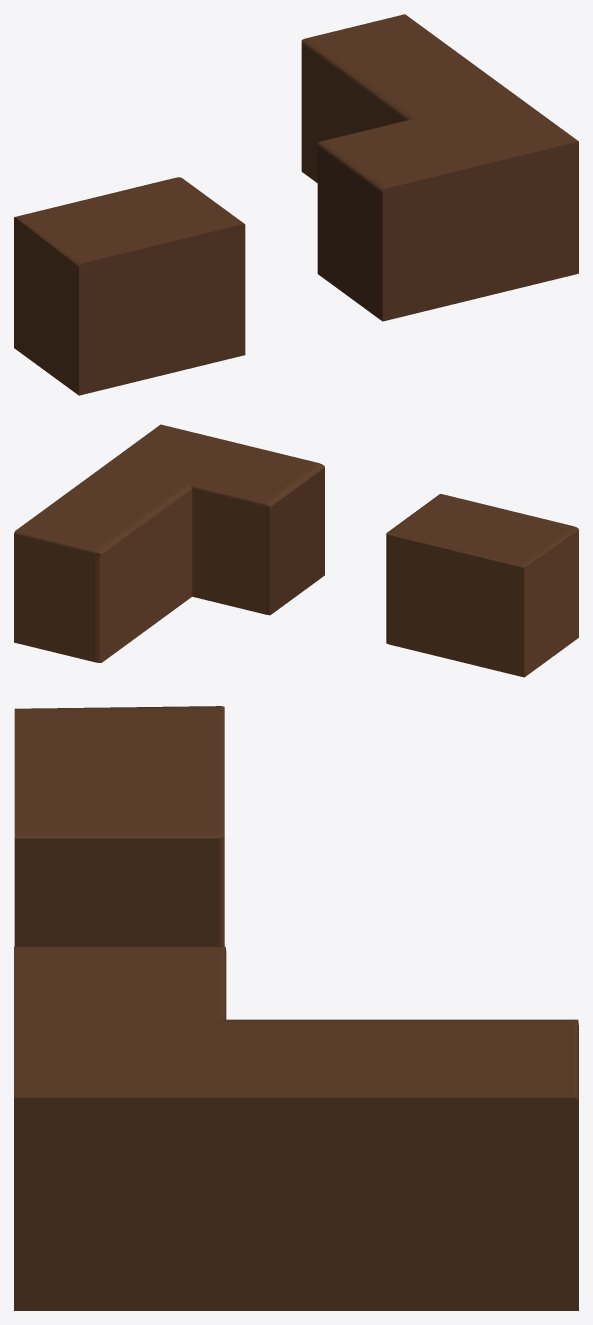
File: Stove_Counter.fbx
3 renders of one model, top to bottom at view 1: azimuth 30°, elevation 25°; view 2: azimuth 150°, elevation 25°; view 3: azimuth 270°, elevation 25°, orthographic. The views are drawn at different scales.
Parts seen in each view (by area): view 1: Counter; view 2: Counter; view 3: Counter.
Boxes of the visible parts, bbox=[...] form: Counter: bbox=[14, 14, 578, 395]; Counter: bbox=[14, 424, 578, 677]; Counter: bbox=[14, 706, 578, 1310].
Size of the model in its own units: 5320 by 1348 by 3230.
